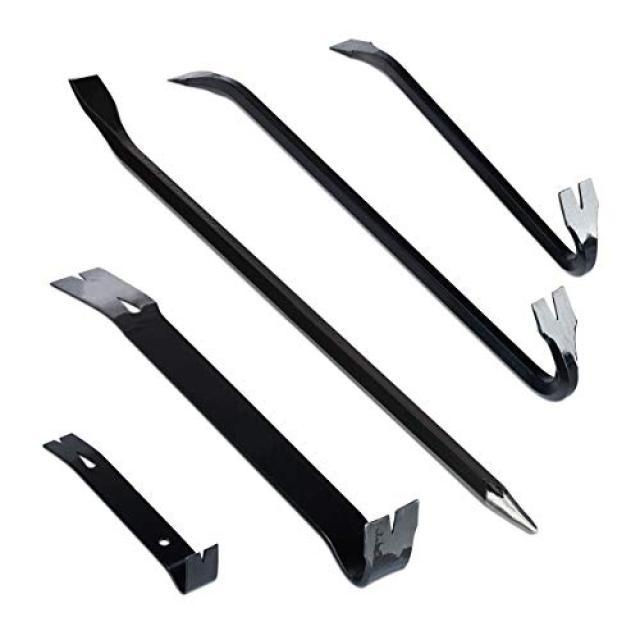Linggis: (56, 56, 546, 545), (170, 46, 584, 416), (322, 28, 624, 277)
